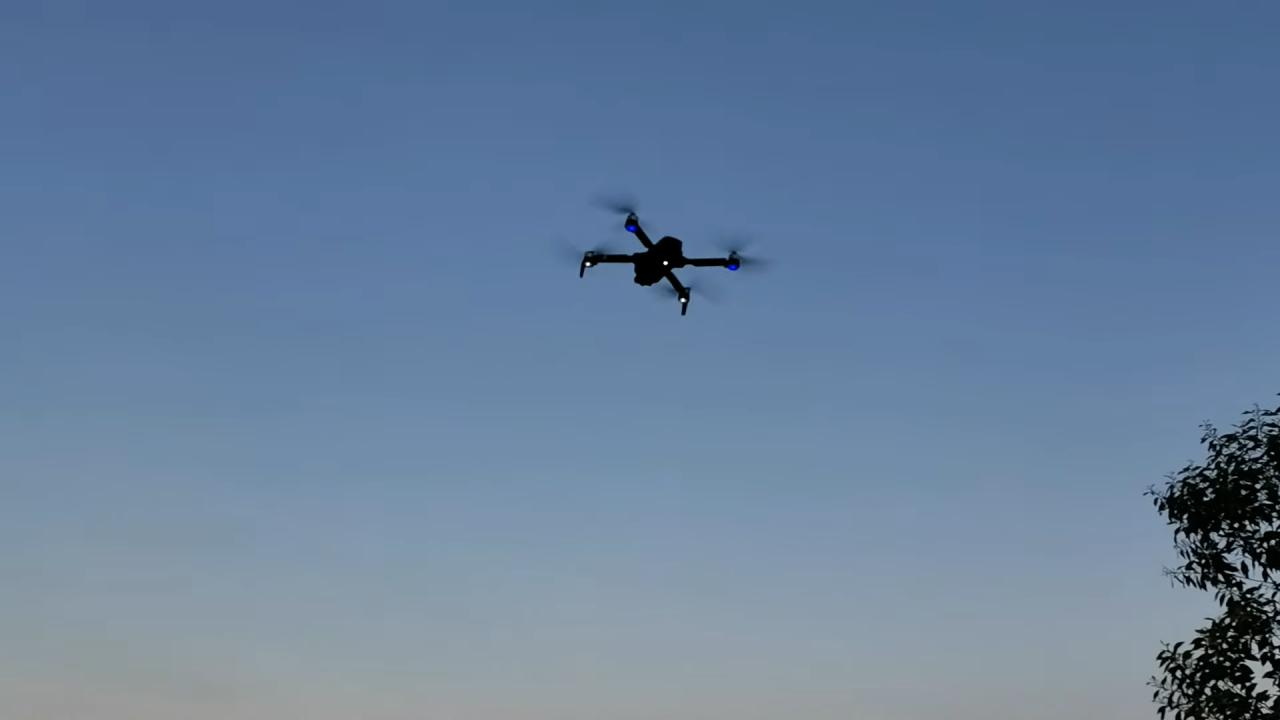Drone: (552, 179, 782, 331)
